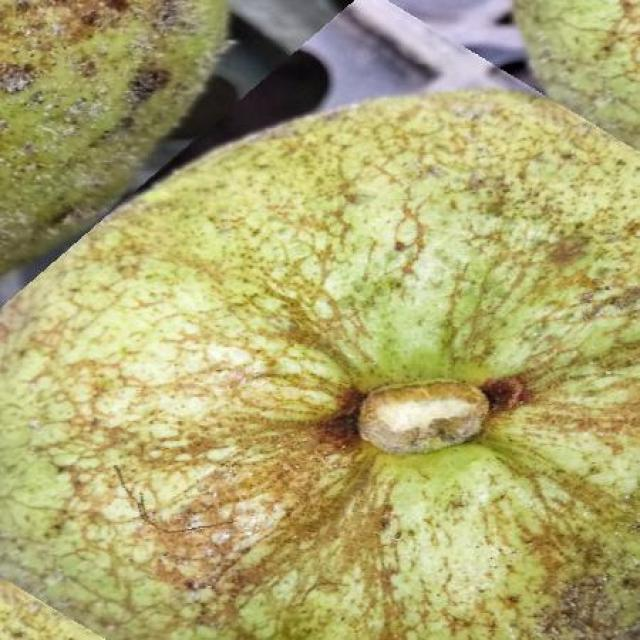Scab: (0, 92, 640, 640)
